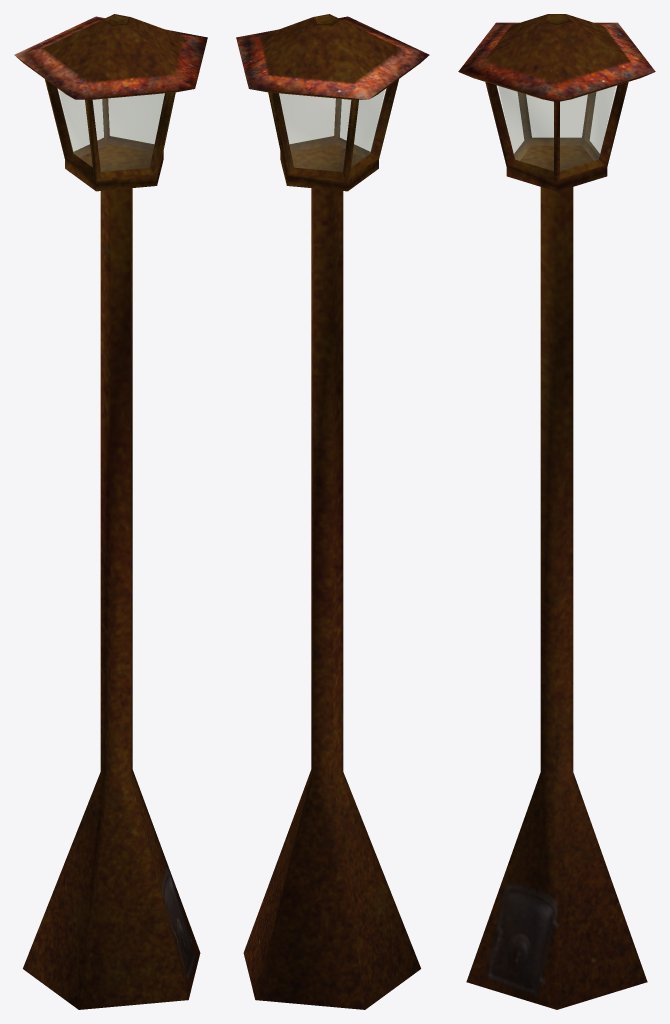
Rendered from StreetLamp.obj.
3 renders of one model, left to right at view 1: azimuth 30°, elevation 25°; view 2: azimuth 150°, elevation 25°; view 3: azimuth 270°, elevation 25°, orthographic.
Parts seen in each view (by area): view 1: N-Gon1_N-Gon1_auv, N-Gon1_default2; view 2: N-Gon1_N-Gon1_auv, N-Gon1_default2; view 3: N-Gon1_N-Gon1_auv, N-Gon1_default2.
Boxes of the visible parts, x1=… form: N-Gon1_N-Gon1_auv: x1=14, y1=14, x2=207, y2=1009; N-Gon1_default2: x1=58, y1=89, x2=164, y2=171; N-Gon1_N-Gon1_auv: x1=236, y1=14, x2=429, y2=1009; N-Gon1_default2: x1=279, y1=89, x2=385, y2=171; N-Gon1_N-Gon1_auv: x1=458, y1=14, x2=655, y2=1009; N-Gon1_default2: x1=497, y1=86, x2=616, y2=170.
Bounding box in the file's own units: 3.2 × 17.85 × 3.36.
Materials: 2 (1 with a texture image).
